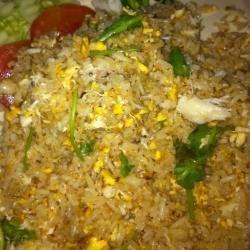rice: (47, 64, 181, 222)
